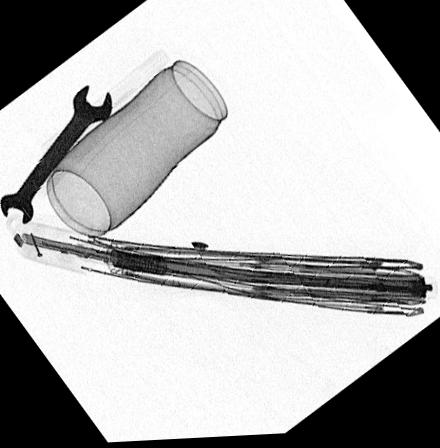Wrench: (0, 86, 112, 225)
